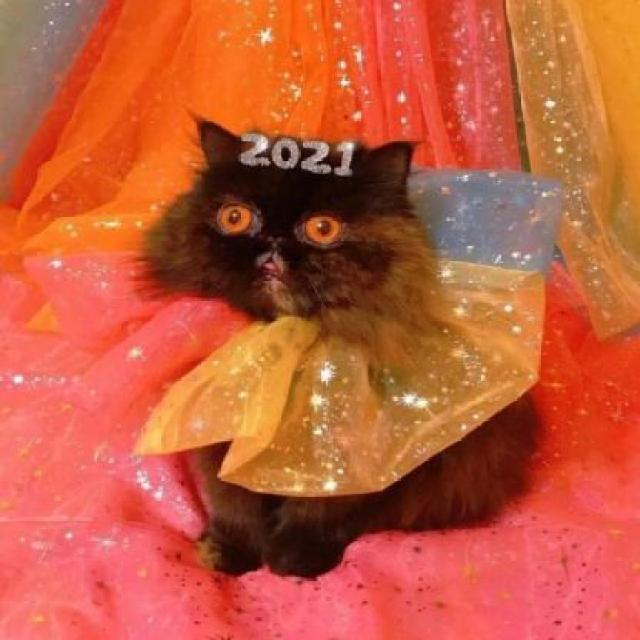cat: (150, 107, 484, 353)
